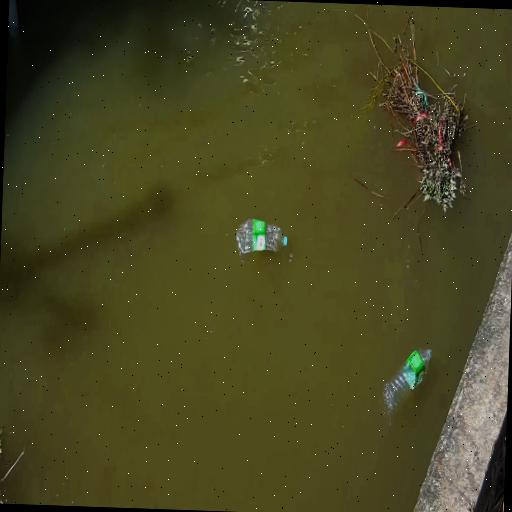plastic: (384, 350, 431, 415), (236, 219, 287, 257)
twig: (363, 11, 467, 211)
